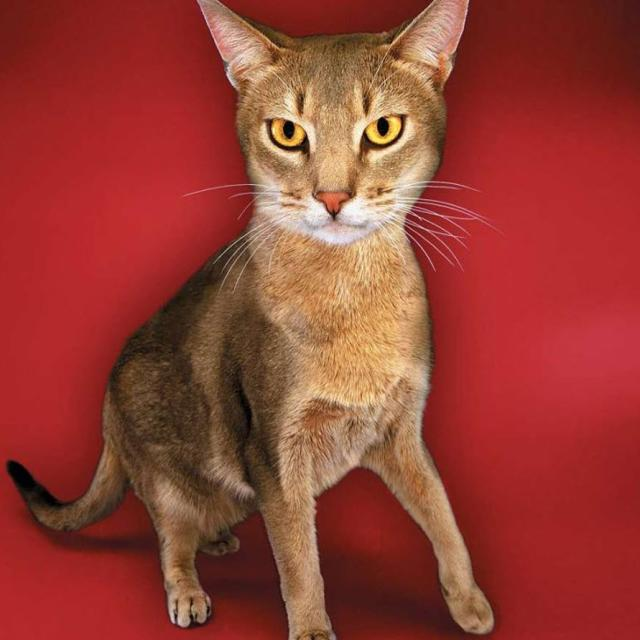Abyssinian: (2, 0, 500, 640)
